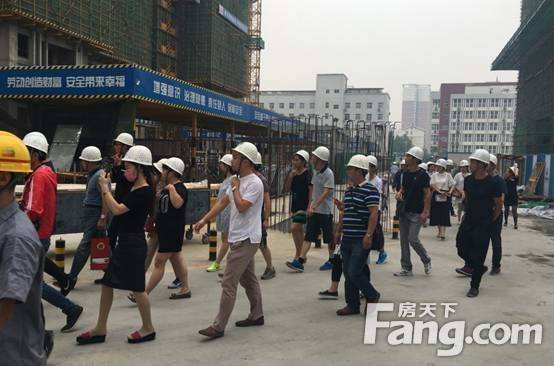white: (121, 143, 152, 181), (22, 130, 50, 164), (231, 141, 257, 173), (78, 144, 103, 172), (163, 155, 186, 182), (346, 154, 368, 182), (468, 148, 490, 173), (404, 146, 425, 169), (311, 146, 330, 167), (113, 132, 132, 153), (293, 148, 309, 168), (217, 153, 232, 171), (437, 159, 447, 172), (459, 158, 468, 172)
yellow: (2, 129, 33, 204)
